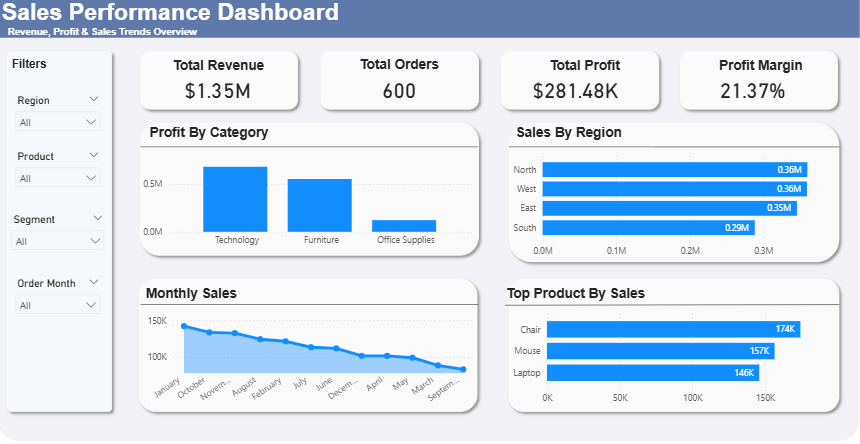

This screenshot's page, from the dashboard's own definition file:
{"tool":"powerbi","page":{"name":"Page 1","canvas":[1280,720],"ordinal":0},"visuals":[{"type":"card","fields":{"Values":["SalesData.Total sales"]},"box":[253.6,154.5,216.7,77.3],"z":0},{"type":"card","fields":{"Values":["SalesData.Total profit"]},"box":[747.5,151.2,213.3,82.3],"z":1000},{"type":"card","fields":{"Values":["SalesData.Avg profit margin"]},"box":[989.4,151.2,216.7,82.3],"z":2000},{"type":"card","fields":{"Values":["SalesData.Total orders"]},"box":[503.9,154.5,215,77.3],"z":3000},{"type":"barChart","fields":{"Category":["SalesData.Region"],"Y":["Sum(SalesData.Sales)"]},"box":[759.3,270.4,458.6,164.6],"z":4000},{"type":"clusteredColumnChart","fields":{"Category":["SalesData.Category"],"Y":["Sum(SalesData.Sales)"]},"box":[253.6,270.4,465.3,149.5],"z":5000},{"type":"stackedAreaChart","fields":{"Category":["SalesData.Order Month"],"Y":["Sum(SalesData.Sales)"]},"box":[253.6,487.1,465.3,149.5],"z":6000},{"type":"barChart","fields":{"Category":["SalesData.Product"],"Y":["Sum(SalesData.Sales)"]},"box":[759.3,487.1,458.6,149.5],"z":7000},{"type":"slicer","fields":{"Values":["SalesData.Region"]},"box":[73.4,195.8,136.8,110.9],"z":8000},{"type":"slicer","fields":{"Values":["SalesData.Product"]},"box":[73.4,272.2,136.8,121],"z":9000},{"type":"slicer","fields":{"Values":["SalesData.Segment"]},"box":[67.7,358.6,148.3,149.8],"z":10000},{"type":"slicer","fields":{"Values":["SalesData.Order Month"]},"box":[73.4,447.8,136.8,148.3],"z":11000},{"type":"textbox","box":[277.2,144.5,171.3,48.7],"z":12000},{"type":"textbox","box":[503.9,142.8,215,53.8],"z":13000},{"type":"textbox","box":[759.3,144.5,213.3,48.7],"z":14000},{"type":"textbox","box":[1001.2,144.5,216.7,48.7],"z":15000},{"type":"textbox","box":[250.3,236.9,198.2,67.2],"z":16000},{"type":"textbox","box":[759.3,236.9,174.7,67.2],"z":17000},{"type":"textbox","box":[250.3,458.6,149.5,55.4],"z":18000},{"type":"textbox","box":[747.4,458.3,213.3,45.4],"z":19000},{"type":"textbox","box":[59,63.4,475.2,59],"z":20000},{"type":"textbox","box":[67.7,99.4,295.2,69.1],"z":21000},{"type":"textbox","box":[73.4,144,136.8,49],"z":22000}]}

Visuals, with their boxes on the page's 1280x720 design canvas (x1, y1, x2, y2). These are canvas units, not pixel positions in the 860x444 screenshot, which may show the page scaled, cropped or inside an application window:
card - SalesData.Total sales: [254, 154, 470, 232]
card - SalesData.Total profit: [748, 151, 961, 234]
card - SalesData.Avg profit margin: [989, 151, 1206, 234]
card - SalesData.Total orders: [504, 154, 719, 232]
barChart - SalesData.Region x Sum(SalesData.Sales): [759, 270, 1218, 435]
clusteredColumnChart - SalesData.Category x Sum(SalesData.Sales): [254, 270, 719, 420]
stackedAreaChart - SalesData.Order Month x Sum(SalesData.Sales): [254, 487, 719, 637]
barChart - SalesData.Product x Sum(SalesData.Sales): [759, 487, 1218, 637]
slicer - SalesData.Region: [73, 196, 210, 307]
slicer - SalesData.Product: [73, 272, 210, 393]
slicer - SalesData.Segment: [68, 359, 216, 508]
slicer - SalesData.Order Month: [73, 448, 210, 596]
textbox: [277, 144, 448, 193]
textbox: [504, 143, 719, 197]
textbox: [759, 144, 973, 193]
textbox: [1001, 144, 1218, 193]
textbox: [250, 237, 448, 304]
textbox: [759, 237, 934, 304]
textbox: [250, 459, 400, 514]
textbox: [747, 458, 961, 504]
textbox: [59, 63, 534, 122]
textbox: [68, 99, 363, 168]
textbox: [73, 144, 210, 193]
